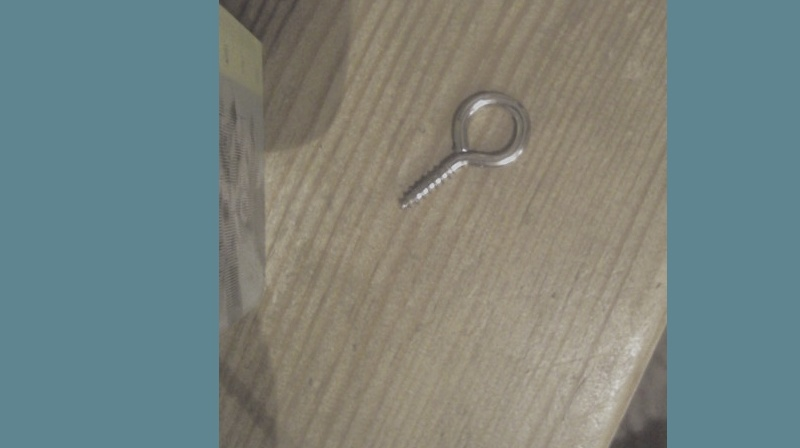O001: (396, 88, 532, 209)
